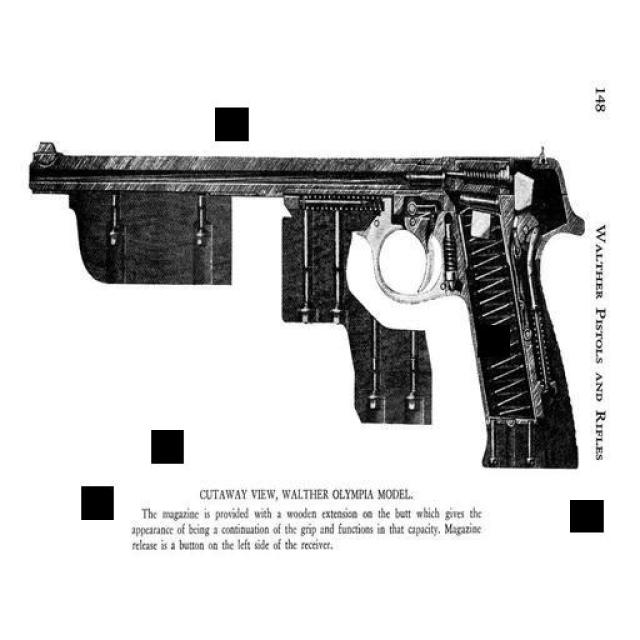gun: (22, 124, 584, 478)
